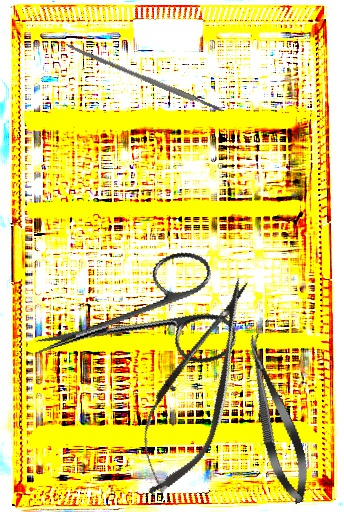Iris Scissors: (19, 244, 242, 405)
Micro Scissor: (118, 264, 277, 509), (234, 330, 318, 508)
Scalpel Handle: (64, 41, 225, 116)
